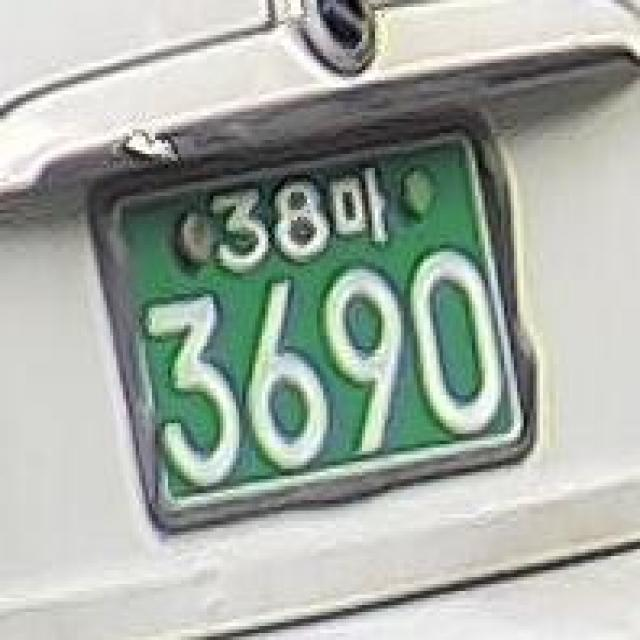illegal_plate: (97, 113, 545, 548)
